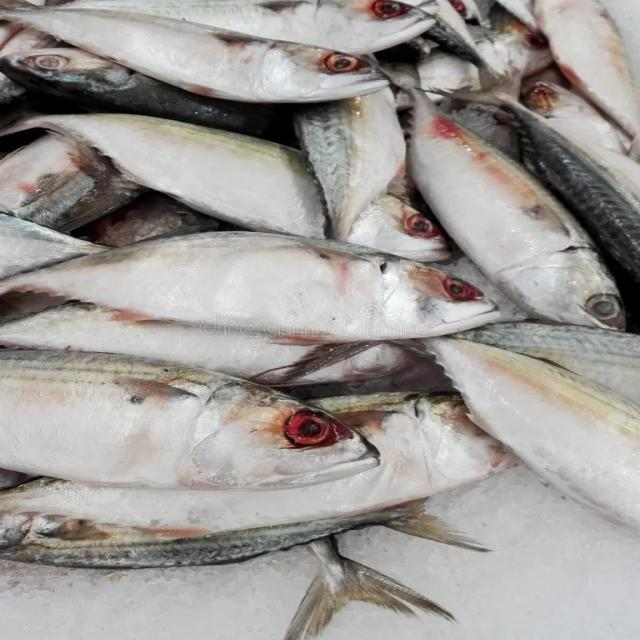Mackerel: (0, 347, 392, 488), (10, 228, 499, 334)
